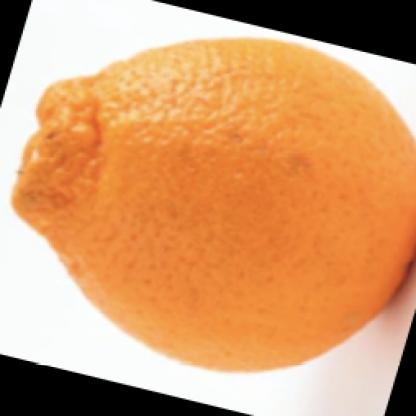orange: (14, 41, 411, 374)
